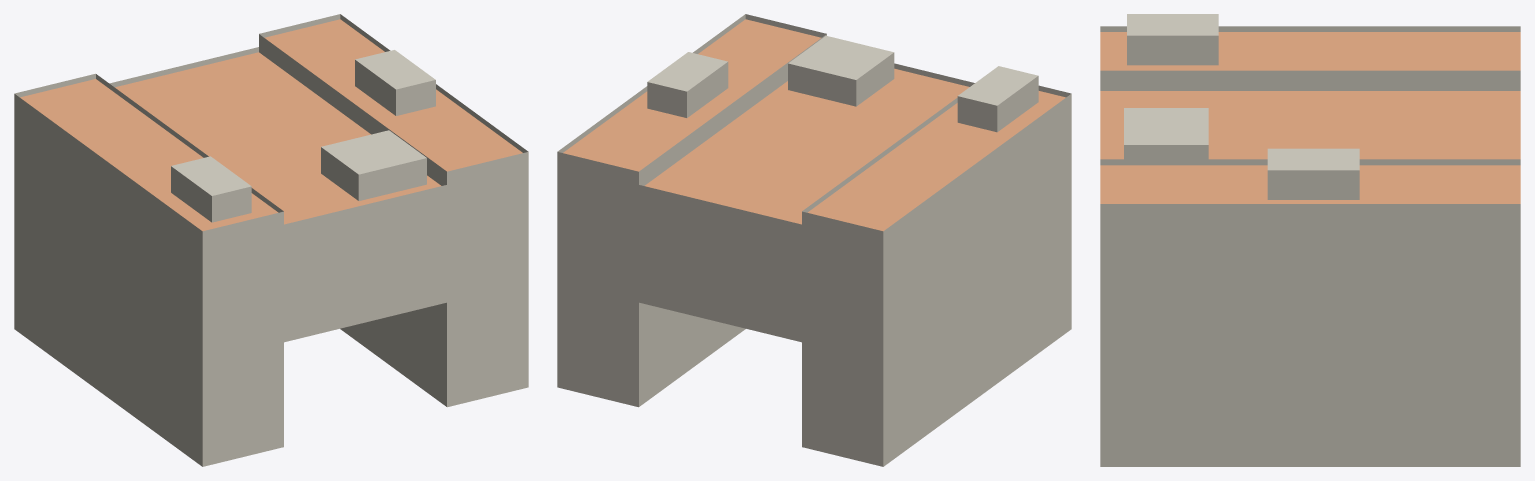
3 renders of one model, left to right at view 1: azimuth 30°, elevation 25°; view 2: azimuth 150°, elevation 25°; view 3: azimuth 270°, elevation 25°, orthographic. The views are drawn at different scales.
Visible parts, largest first — view 1: Object_4, Object_10, Object_11, Object_9, Object_1, Object_3, Object_2, Object_8, Object_7, Object_5, Object_6; view 2: Object_4, Object_10, Object_9, Object_11, Object_1, Object_3, Object_2, Object_7, Object_8, Object_6; view 3: Object_4, Object_10, Object_9, Object_11, Object_8, Object_2, Object_7, Object_3, Object_1.
Boxes of the visible parts, bbox=[...] form: Object_4: bbox=[14, 14, 528, 466]; Object_10: bbox=[115, 52, 440, 224]; Object_11: bbox=[264, 19, 522, 171]; Object_9: bbox=[20, 79, 278, 231]; Object_1: bbox=[321, 130, 426, 200]; Object_3: bbox=[171, 156, 251, 222]; Object_2: bbox=[355, 50, 435, 115]; Object_8: bbox=[14, 74, 283, 236]; Object_7: bbox=[259, 14, 528, 176]; Object_5: bbox=[284, 185, 446, 229]; Object_6: bbox=[109, 47, 258, 87]; Object_4: bbox=[557, 14, 1071, 466]; Object_10: bbox=[645, 68, 969, 224]; Object_9: bbox=[807, 91, 1065, 231]; Object_11: bbox=[563, 19, 821, 171]; Object_1: bbox=[788, 35, 894, 106]; Object_3: bbox=[957, 66, 1038, 132]; Object_2: bbox=[647, 52, 728, 117]; Object_7: bbox=[557, 14, 826, 176]; Object_8: bbox=[802, 85, 1071, 236]; Object_6: bbox=[639, 185, 801, 229]; Object_4: bbox=[1100, 26, 1520, 466]; Object_10: bbox=[1100, 91, 1520, 159]; Object_9: bbox=[1100, 32, 1520, 70]; Object_11: bbox=[1100, 165, 1520, 203]; Object_8: bbox=[1100, 26, 1520, 76]; Object_2: bbox=[1267, 148, 1359, 199]; Object_7: bbox=[1100, 159, 1520, 209]; Object_3: bbox=[1127, 14, 1218, 65]; Object_1: bbox=[1124, 108, 1208, 159].
Bounding box in the file's own units: 1283 × 1283 × 966.
